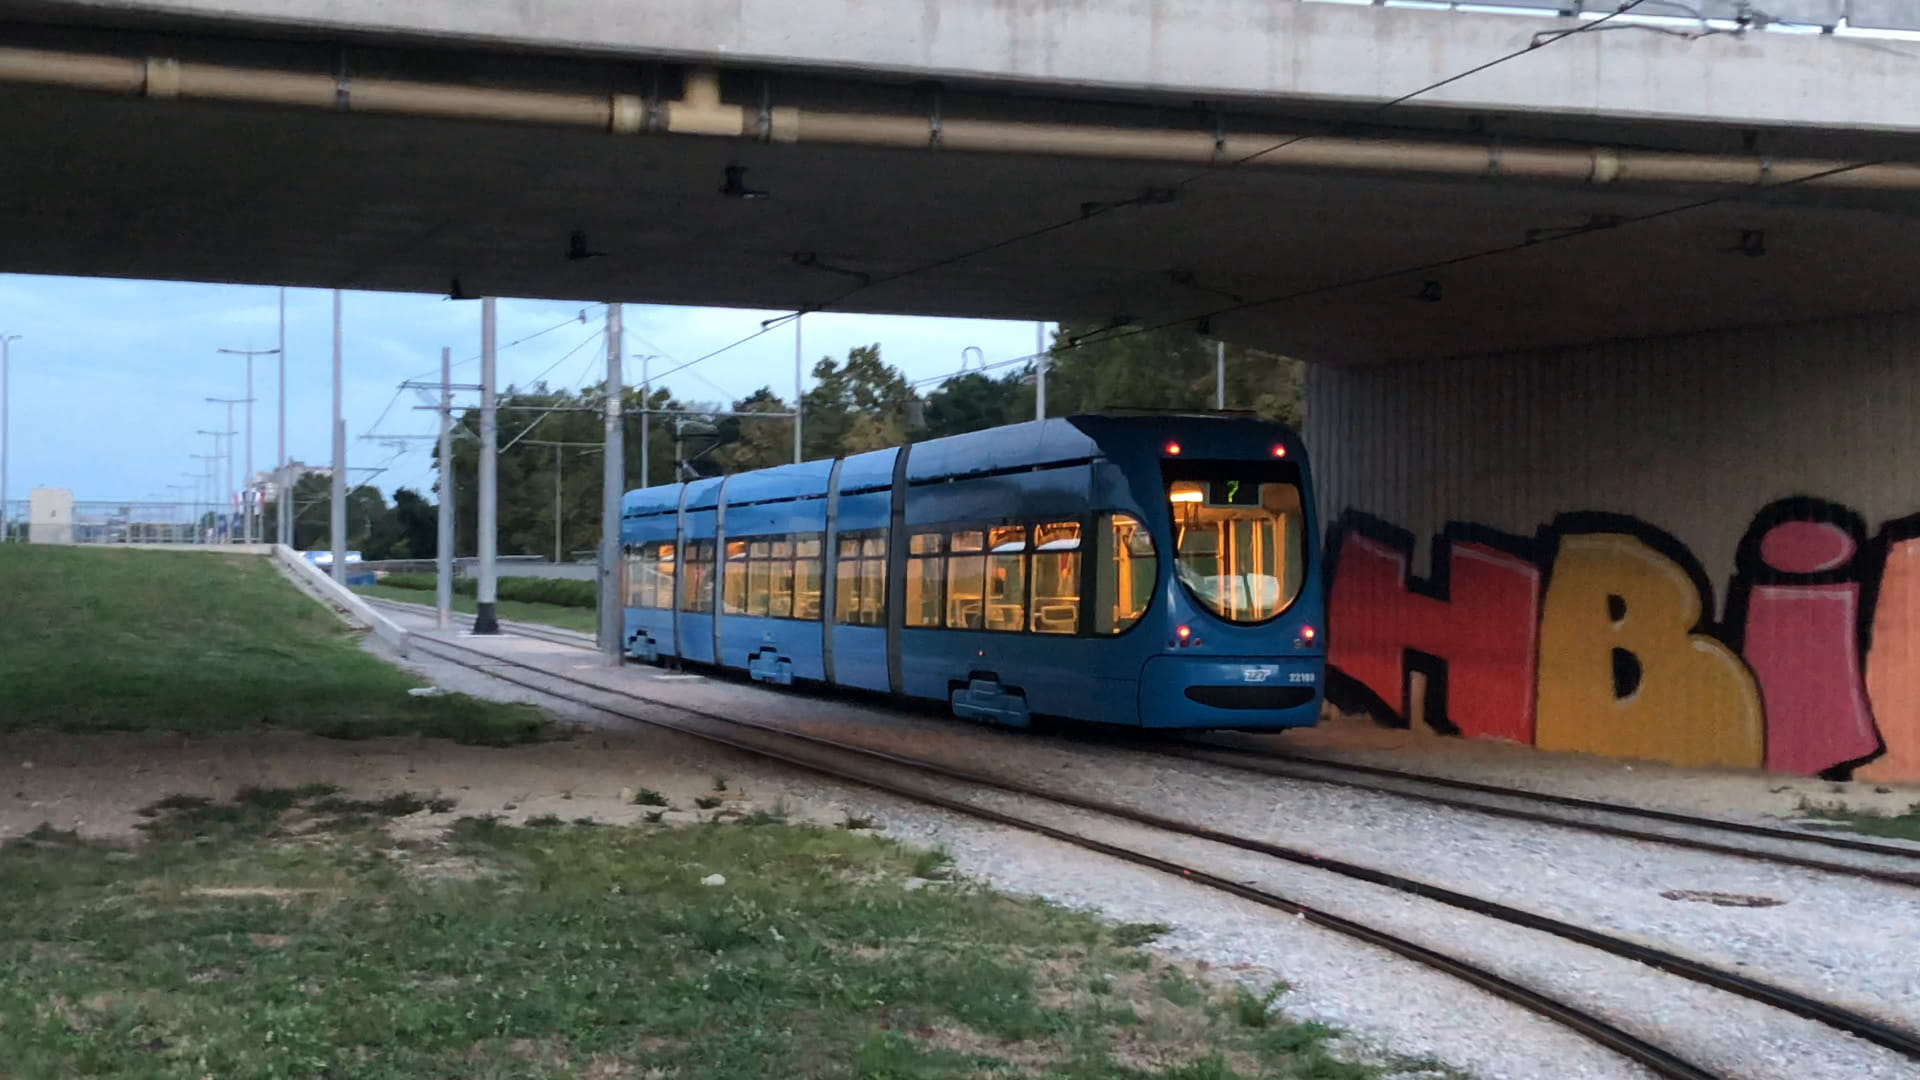tramvaj: (616, 400, 1333, 748)
